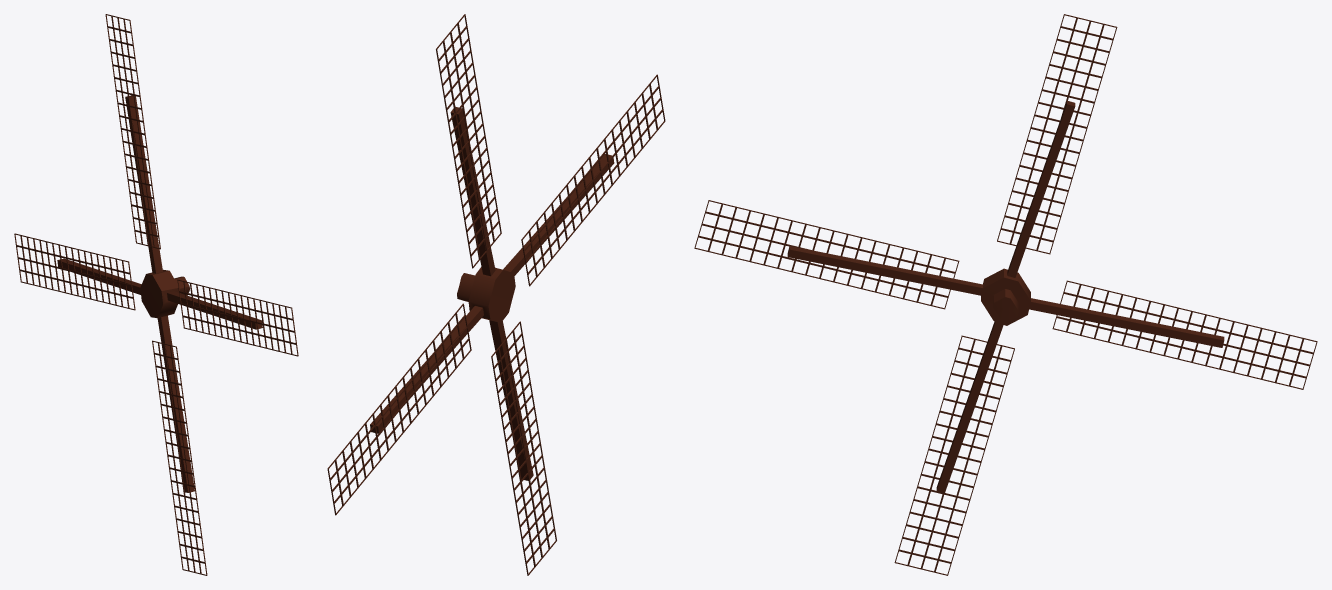
Rendered from SM_Blade.fbx.
3 views of the same model, side by side, from view 1: azimuth 30°, elevation 25°; view 2: azimuth 150°, elevation 25°; view 3: azimuth 270°, elevation 25° (orthographic). The views are drawn at different scales.
Parts seen in each view (by area): view 1: SM_Blade; view 2: SM_Blade; view 3: SM_Blade.
Boxes of the visible parts, left/top/right/bottom form: SM_Blade: left=14, top=14, right=298, bottom=575; SM_Blade: left=327, top=14, right=665, bottom=575; SM_Blade: left=694, top=14, right=1317, bottom=575.
Size of the model in its own units: 94.71 by 1425 by 1433.
